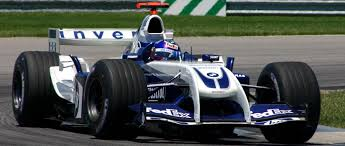FormulaOneCar: (12, 2, 320, 145)
